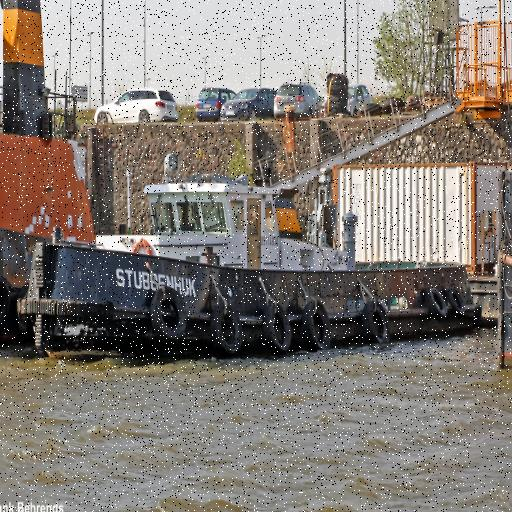tugboat: (14, 152, 486, 374)
